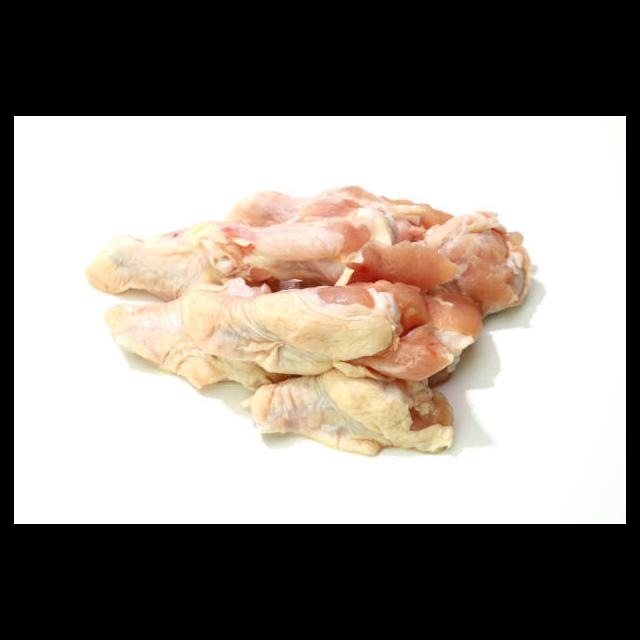chicken: (83, 183, 540, 462)
